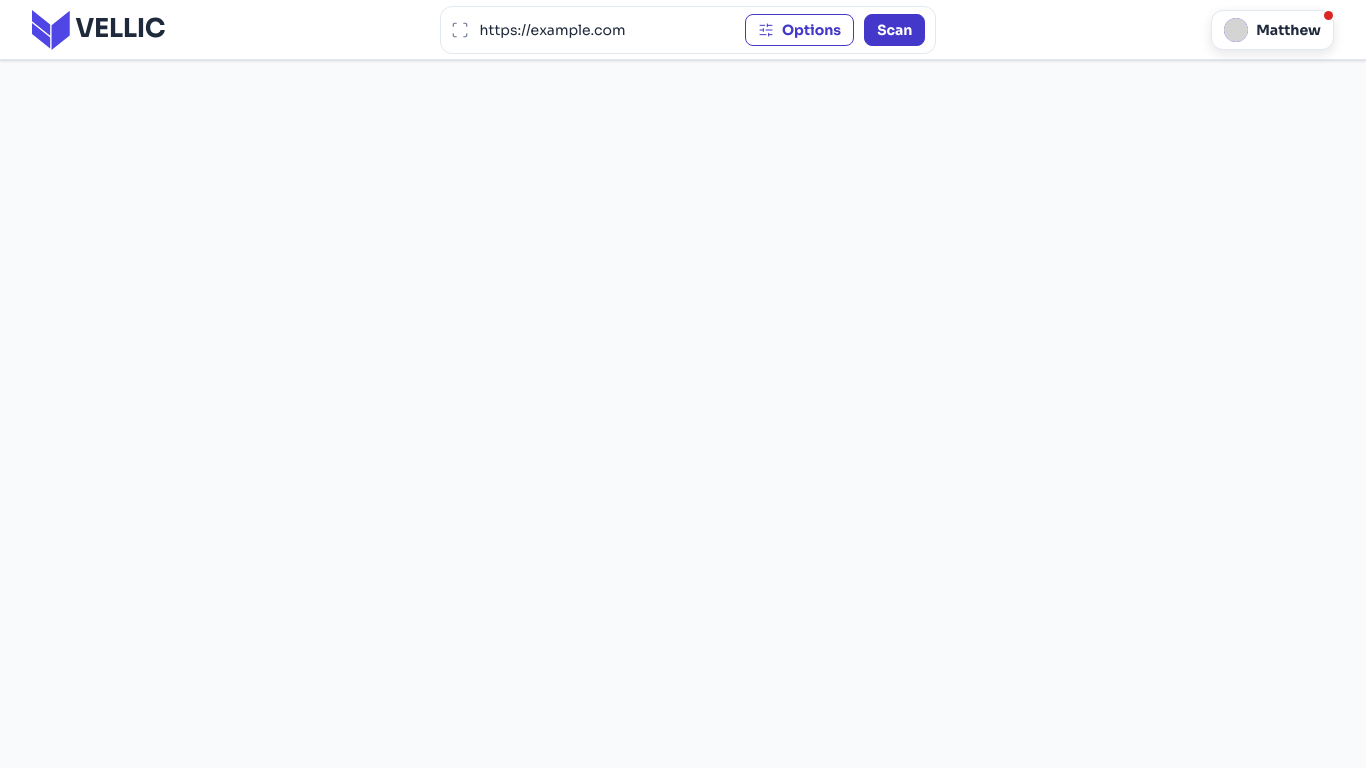
Test case: Topbar › opens support from the account menu
This screenshot has width=1366, height=768.
Click the button "Matthew": (1273, 30) [1211,10,1334,50]
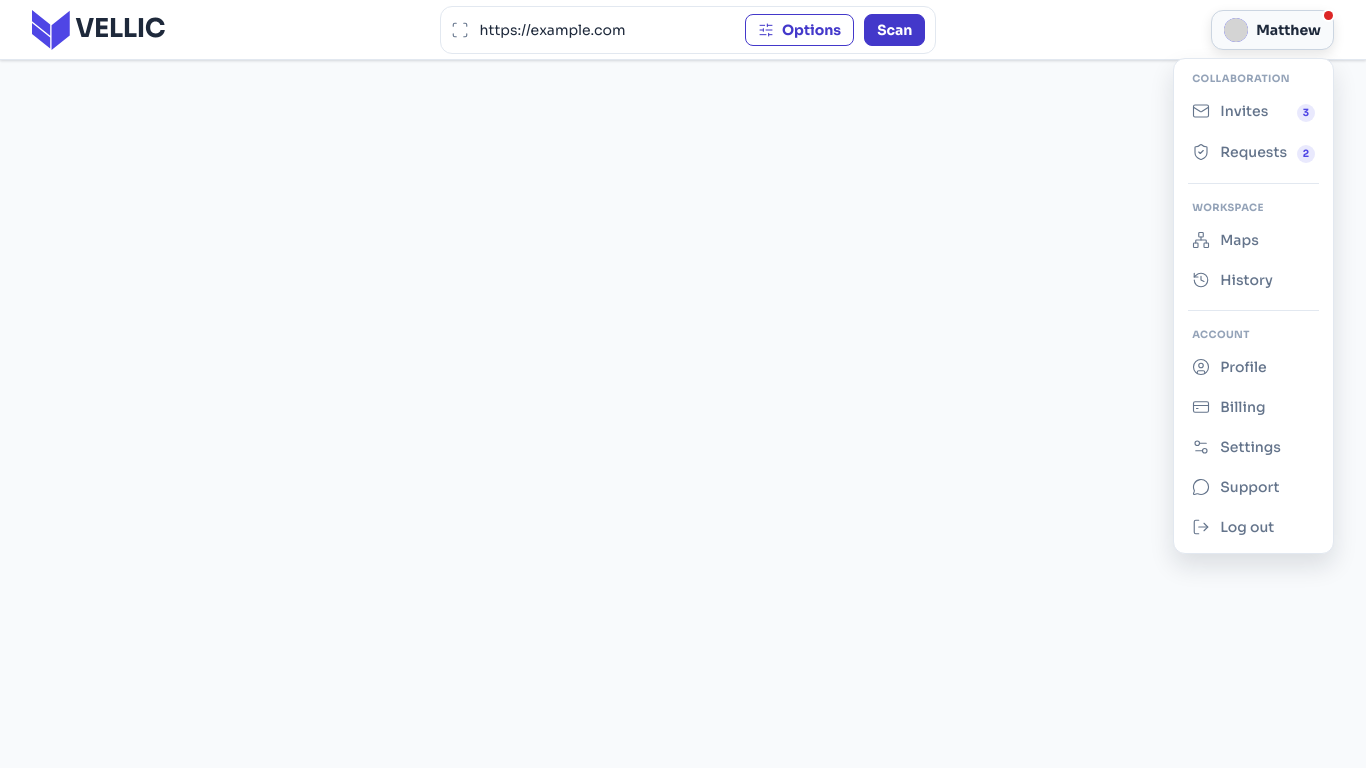
Click the menu item "Support": (1254, 486) [1182,468,1325,504]
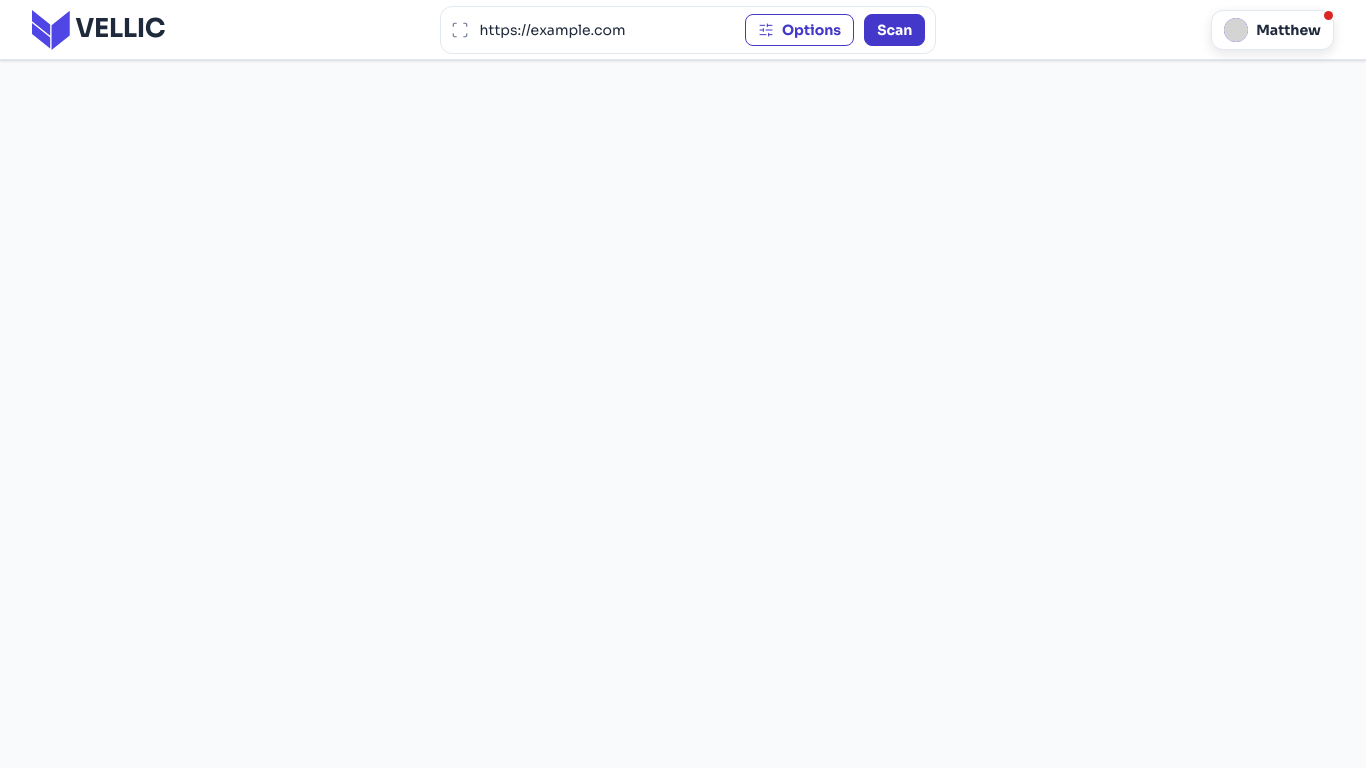
Result: the menu with class "account-menu" is gone
